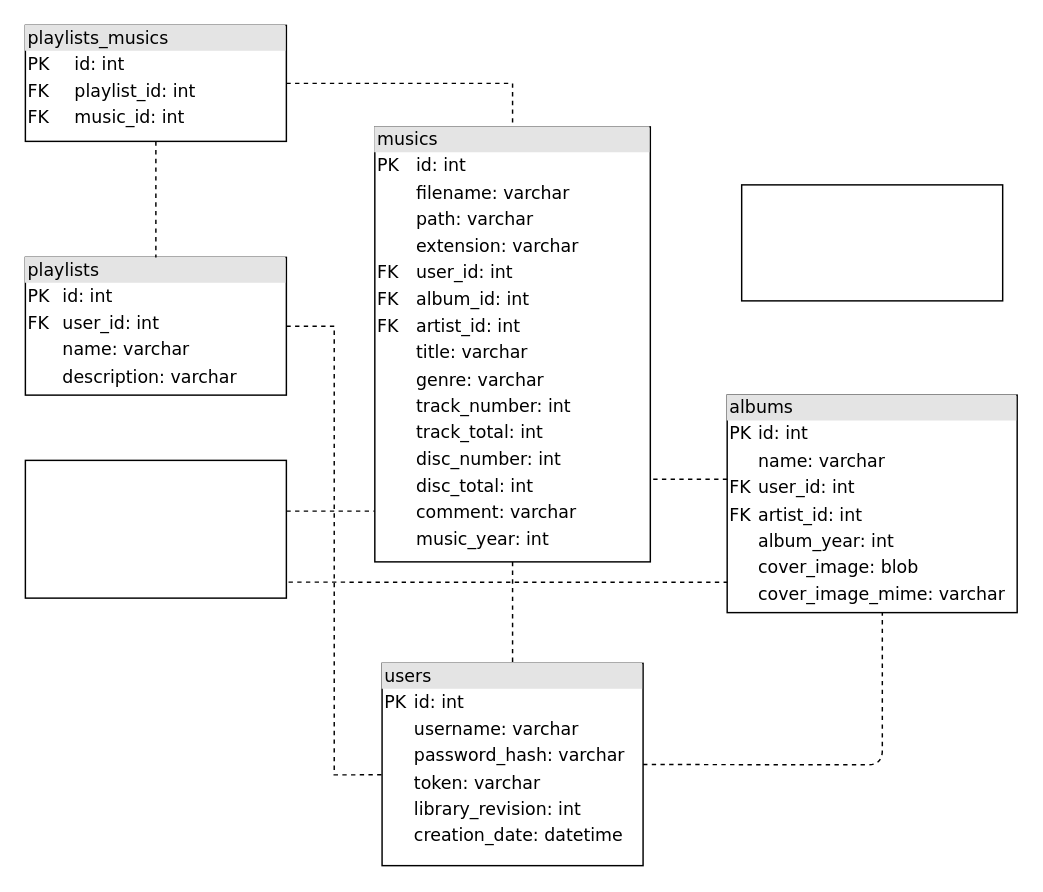
This 1043x892 diagram has some shape labels left out. The box of each missing label's shape, as (x1, y1, x2, y2) in pixels:
artists PK id: int name: varchar FK user_id: int artist_image: blob: (24, 459, 286, 598)
database_informations PK id: int name: varchar description: varchar: (740, 183, 1003, 301)
